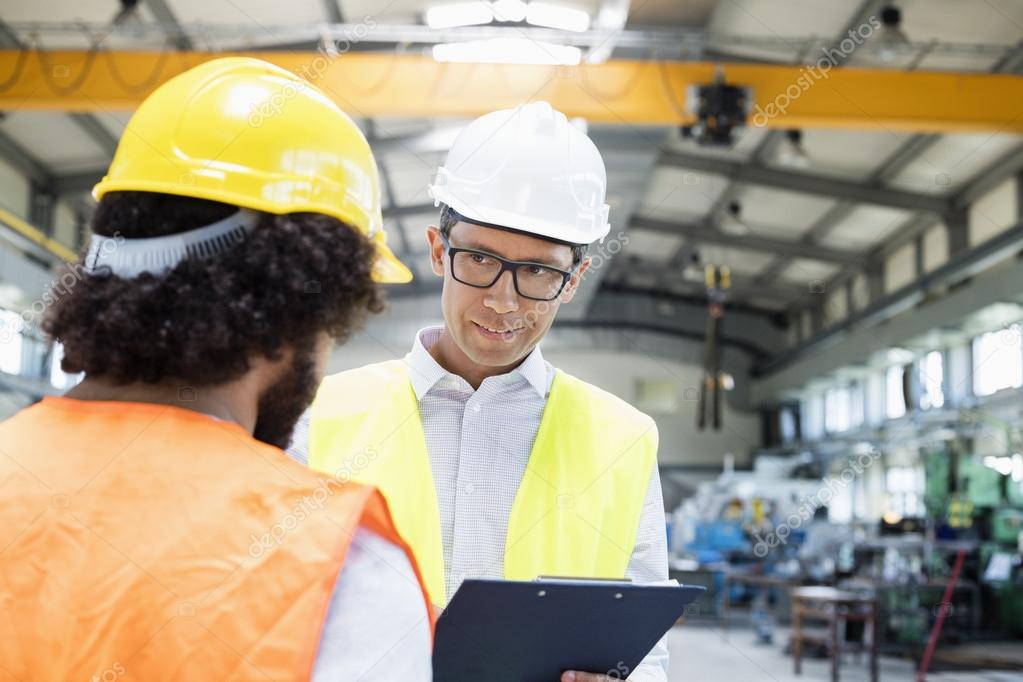Helmet: (88, 49, 415, 290), (427, 101, 614, 245)
